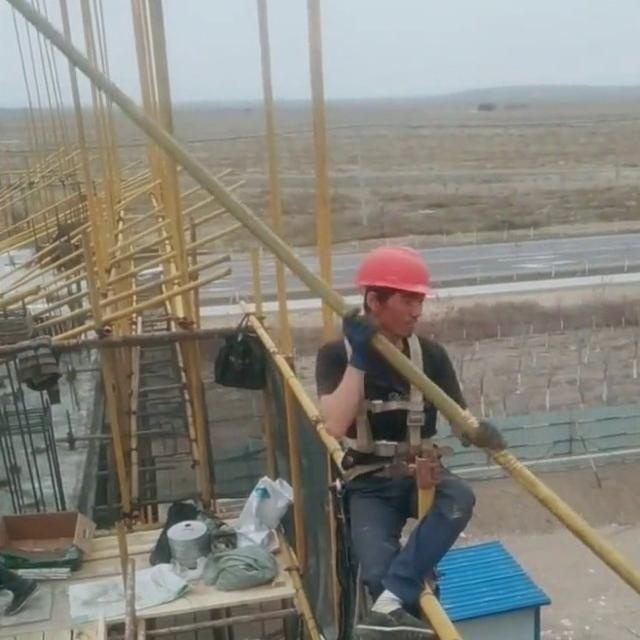Arnes_seguridad: (334, 321, 442, 463)
